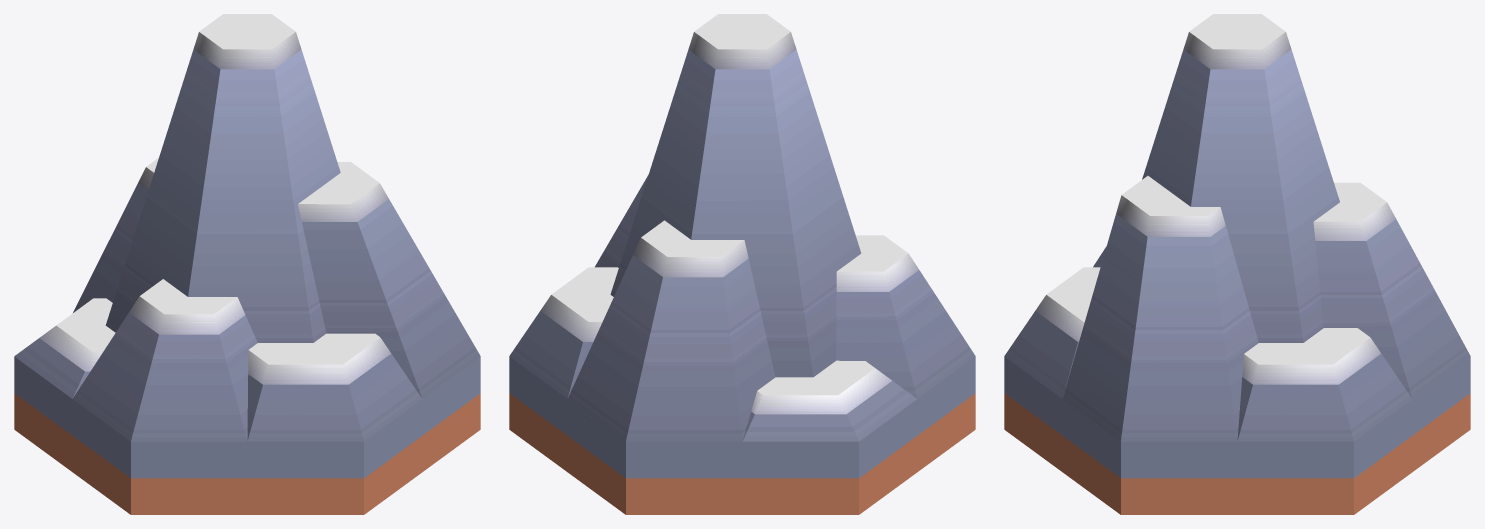
Rendered from stone-mountain.glb.
3 views of the same model, side by side, from view 1: azimuth 30°, elevation 25°; view 2: azimuth 150°, elevation 25°; view 3: azimuth 270°, elevation 25° (orthographic).
Parts seen in each view (by area): view 1: stone-mountain; view 2: stone-mountain; view 3: stone-mountain.
Part boxes in pixels (x1,y1,x2,y2): stone-mountain: [14, 14, 480, 514]; stone-mountain: [509, 14, 975, 514]; stone-mountain: [1004, 14, 1470, 514].
Size of the model in its own units: 1 by 1.09 by 1.15.
1 material, 1 textured.
